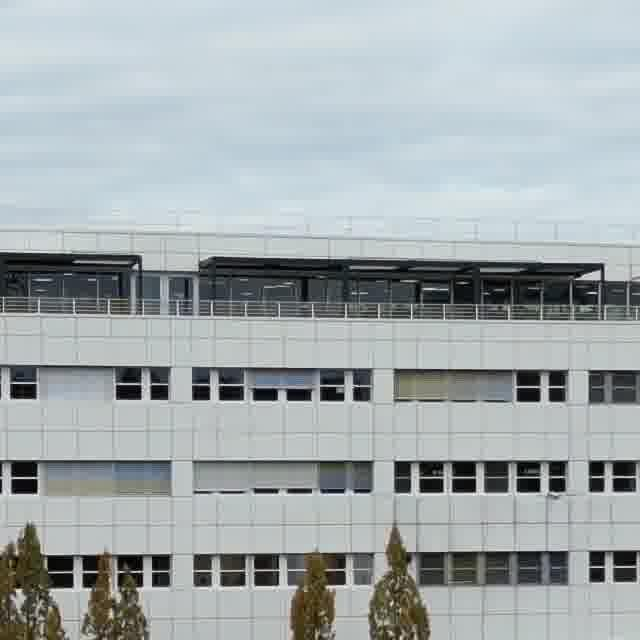Drohne: (546, 492, 562, 499)
